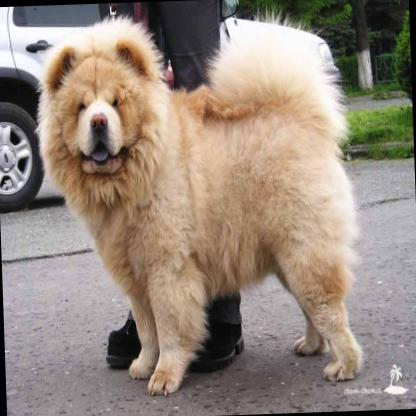chow: (34, 7, 364, 400)
